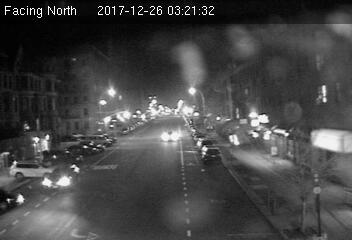car: (42, 163, 78, 187), (199, 144, 222, 165), (161, 131, 178, 141)
